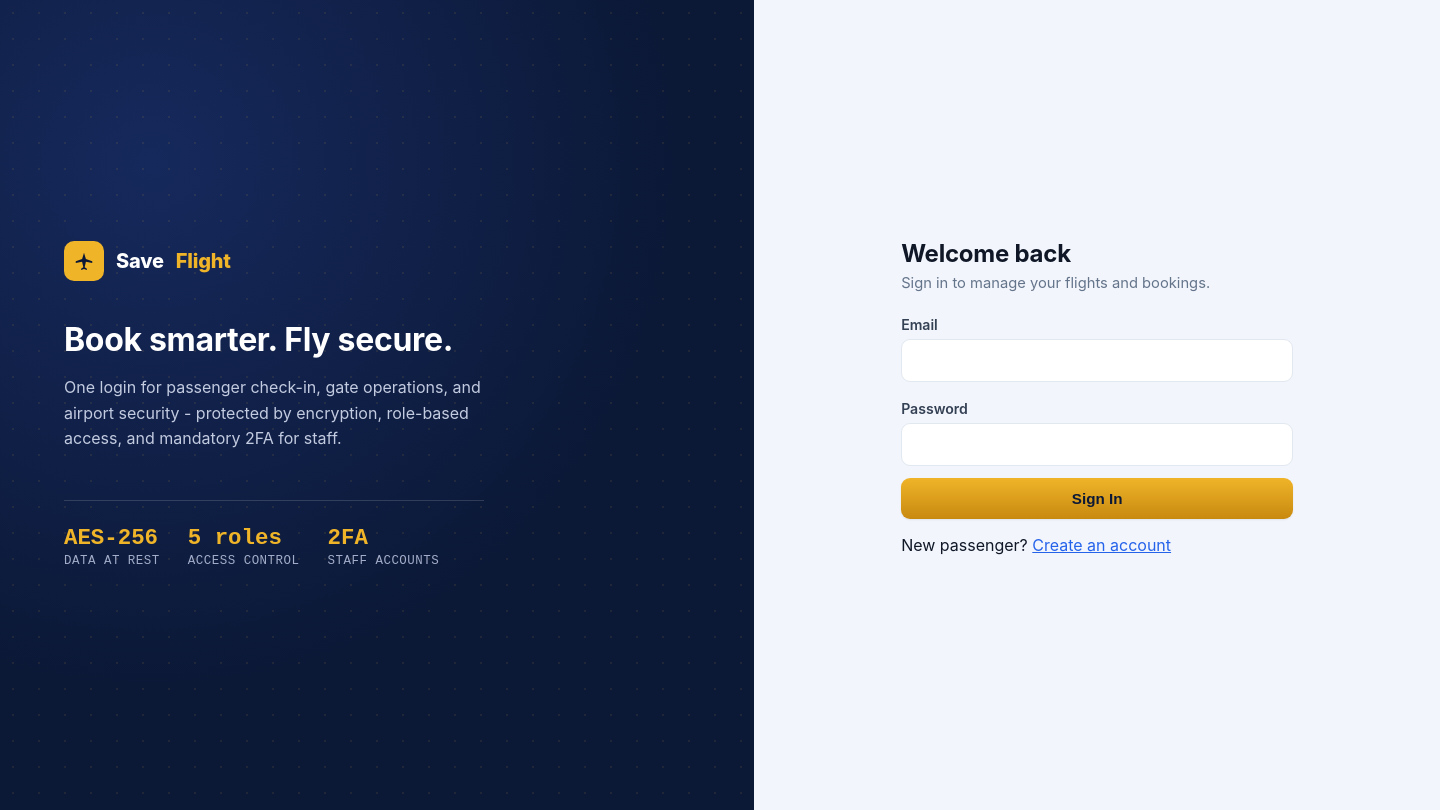
Test: Login Component › shows rate limit message on 429 response
This screenshot has width=1440, height=810.
Type "pax@example.com" into the field labelled "Email" at (1097, 360), box [901,339,1293,382]
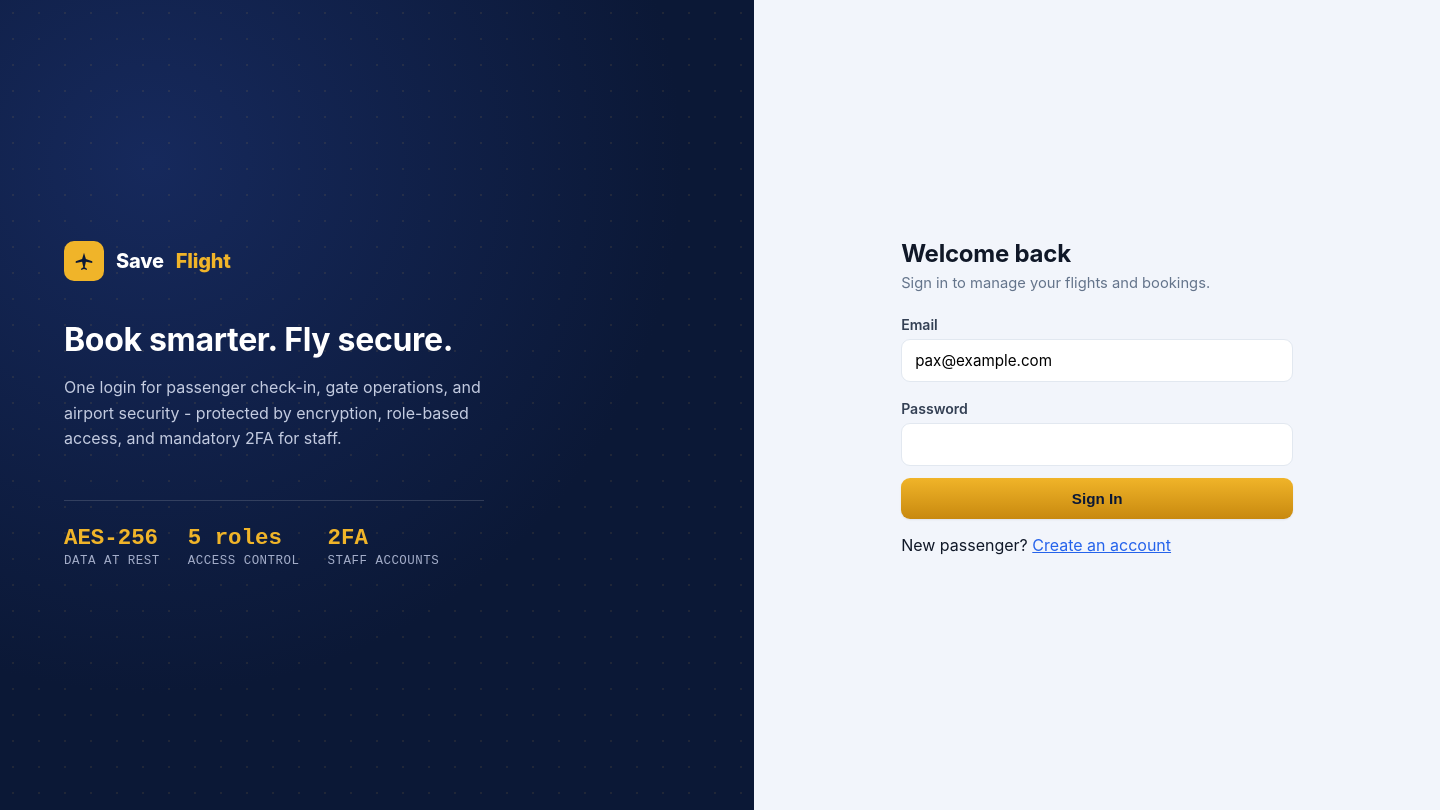
Type "WrongPass1!" into the password field labelled "Password" at (1097, 444), box [901,423,1293,466]
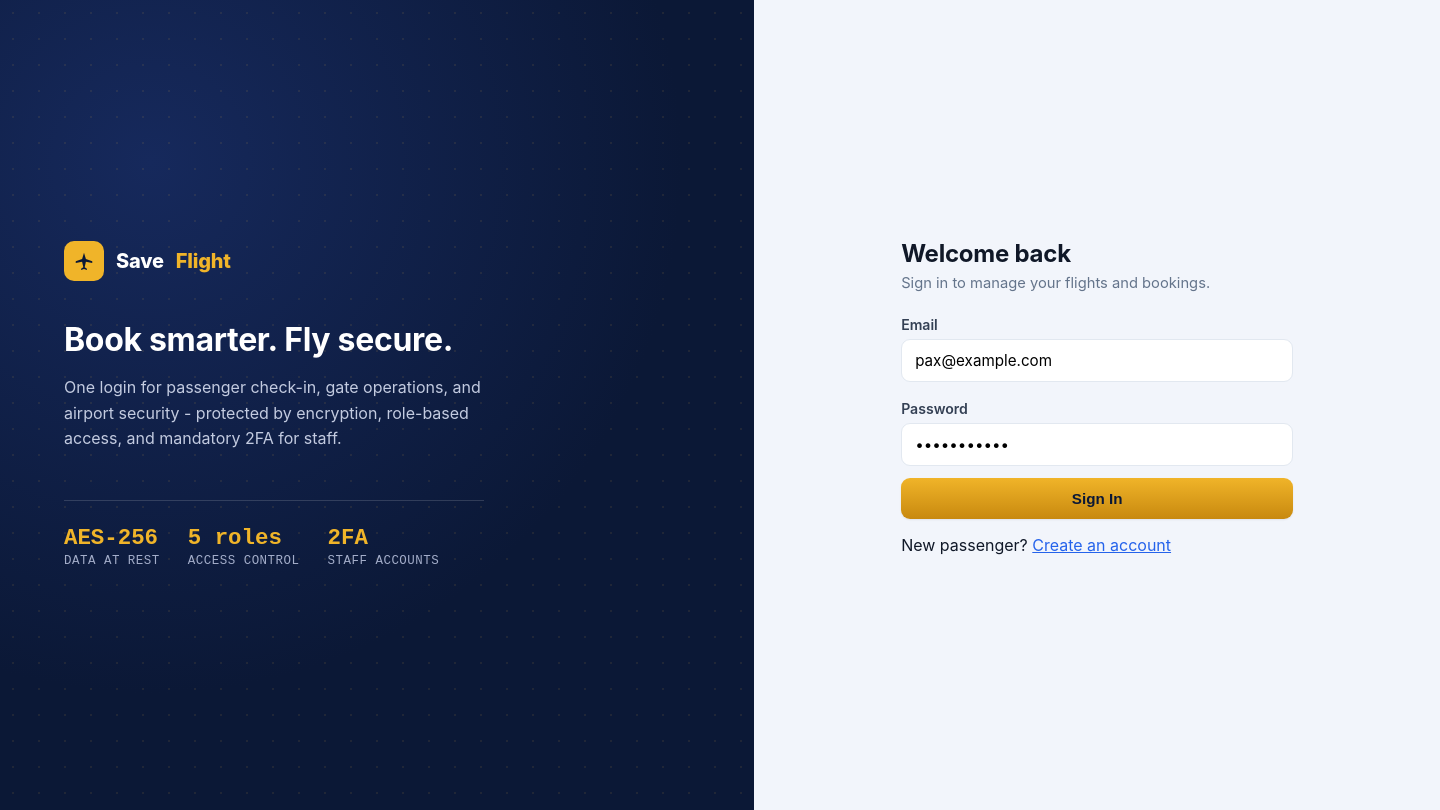
Click the button "Sign In" at (1097, 498), box [901,478,1293,519]
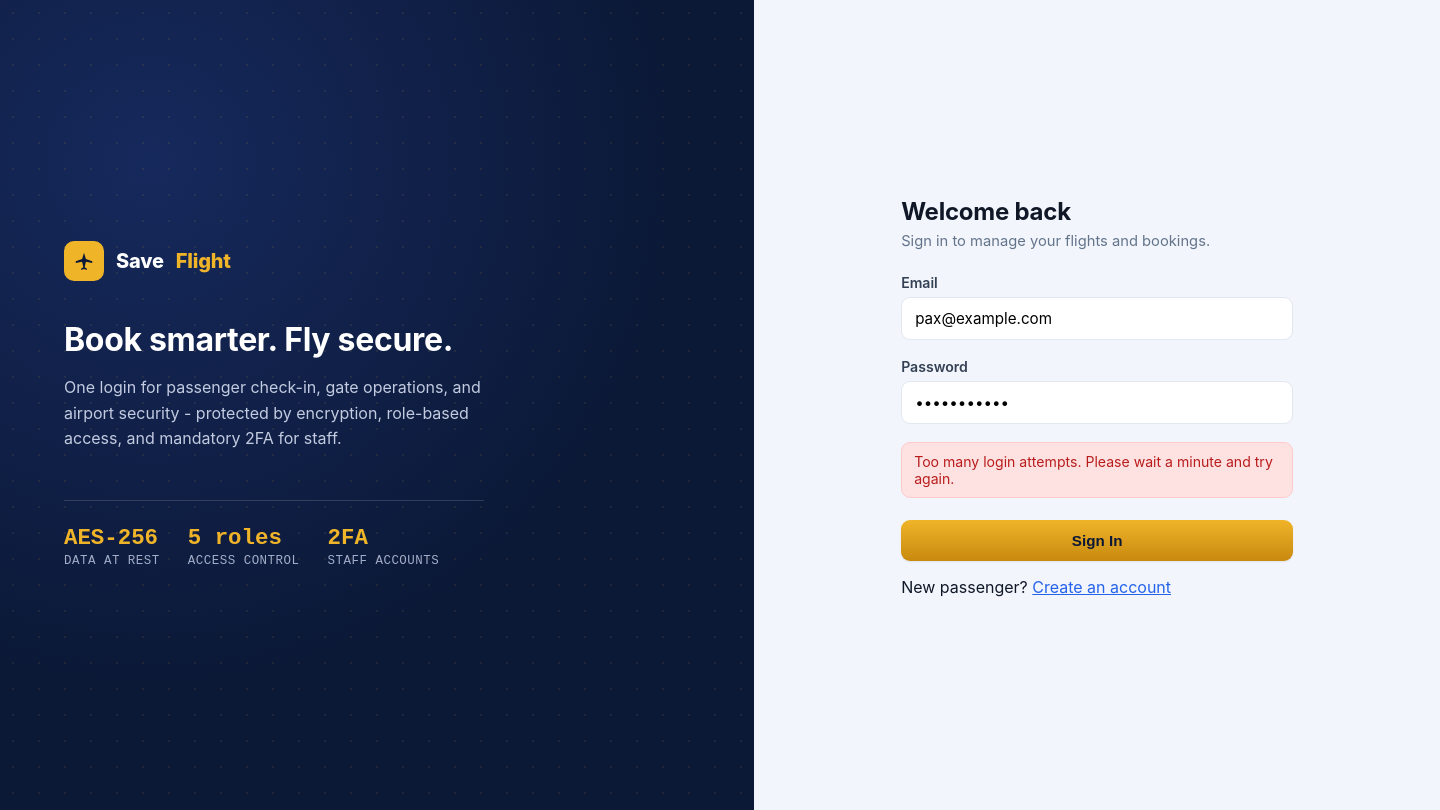
Check: the text "Too many login attempts. Please wait a minute and try again." is shown, box [901,442,1293,498]
